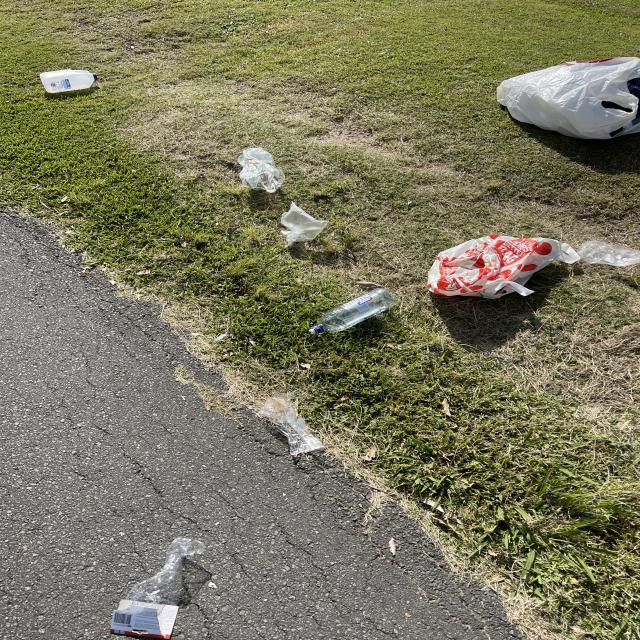bag: (421, 230, 640, 301), (493, 55, 640, 146), (108, 537, 205, 640), (256, 390, 325, 456), (278, 201, 330, 247), (238, 146, 286, 194)
bottle: (306, 287, 399, 335), (40, 69, 99, 93)
